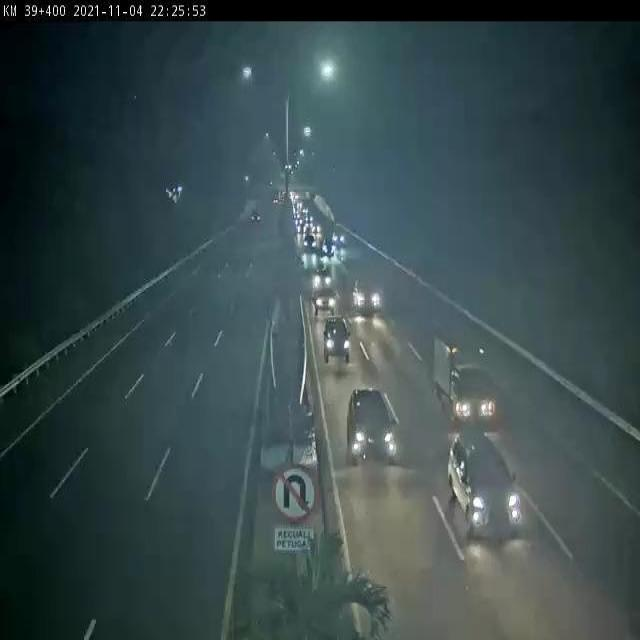Car: (451, 429, 530, 542), (346, 386, 401, 464), (323, 316, 352, 364), (352, 280, 384, 317), (310, 287, 338, 313), (302, 250, 318, 276), (322, 239, 334, 259), (249, 209, 261, 222)
Truck: (433, 335, 503, 431)
